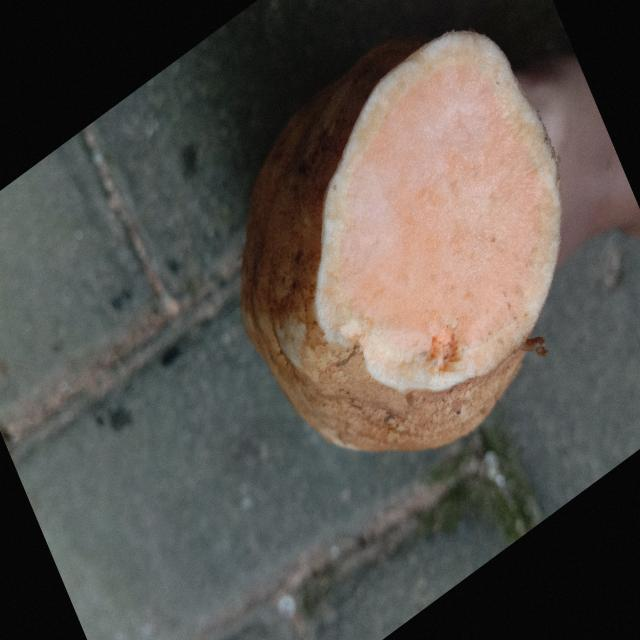Healthy Sweet Potato: (315, 32, 560, 392)
